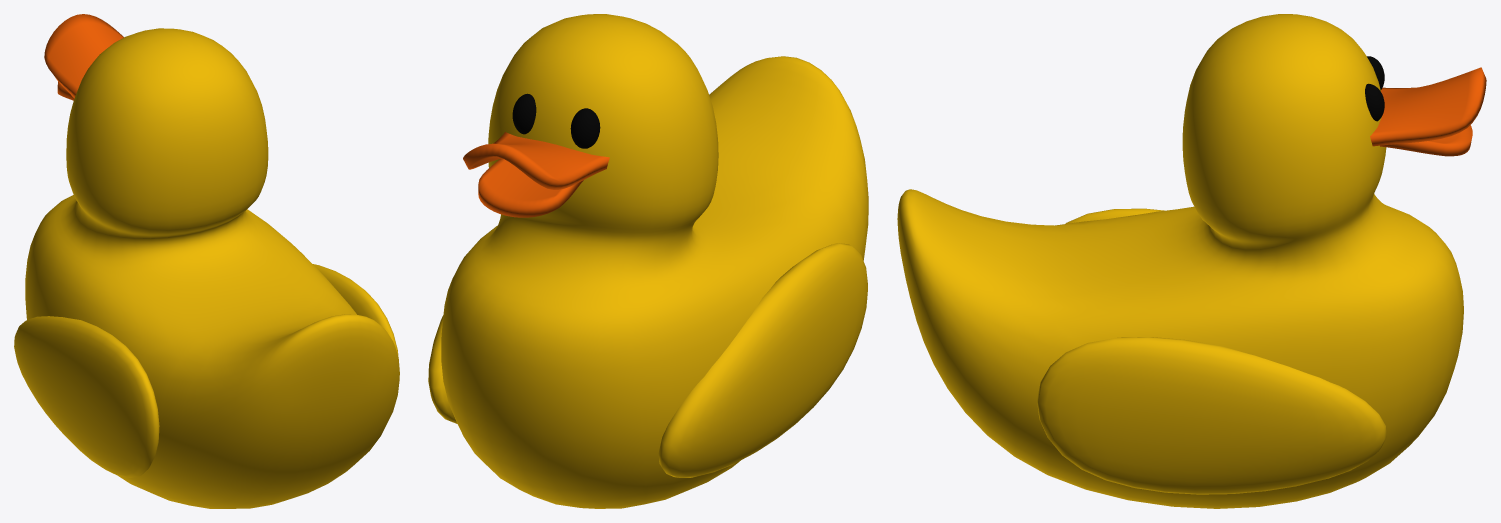
The model's file is Duck.glb.
3 renders of one model, left to right at view 1: azimuth 30°, elevation 25°; view 2: azimuth 150°, elevation 25°; view 3: azimuth 270°, elevation 25°, orthographic. The views are drawn at different scales.
Parts seen in each view (by area): view 1: Object_3, Object_6, Object_5; view 2: Object_3, Object_6, Object_5, Object_7, Object_2, Object_4; view 3: Object_3, Object_6, Object_5, Object_7.
Boxes of the visible parts, x1,y1,x2,y2 form: Object_3: (25, 28, 399, 508); Object_6: (14, 264, 398, 477); Object_5: (44, 14, 123, 98); Object_3: (441, 14, 868, 508); Object_6: (428, 243, 867, 477); Object_5: (463, 132, 609, 189); Object_7: (478, 158, 583, 217); Object_2: (570, 108, 600, 148); Object_4: (512, 93, 536, 134); Object_3: (897, 14, 1463, 508); Object_6: (1037, 208, 1386, 494); Object_5: (1370, 67, 1486, 146); Object_7: (1380, 125, 1472, 156).
Bounding box in the file's own units: 2.42 × 3.58 × 4.11.
